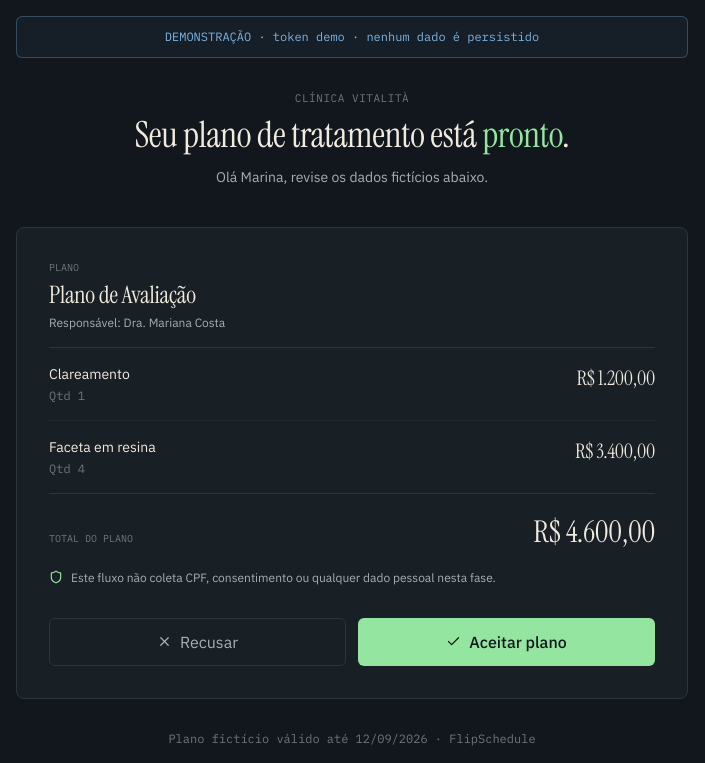
Scenario: public experience › keeps public plan acceptance entirely visual
Expected: the text "DEMONSTRAÇÃO · token demo · nenhum dado é persistido" is shown, x1=16 y1=16 x2=688 y2=58
Click the button "Aceitar plano": (506, 642) x1=358 y1=618 x2=655 y2=666
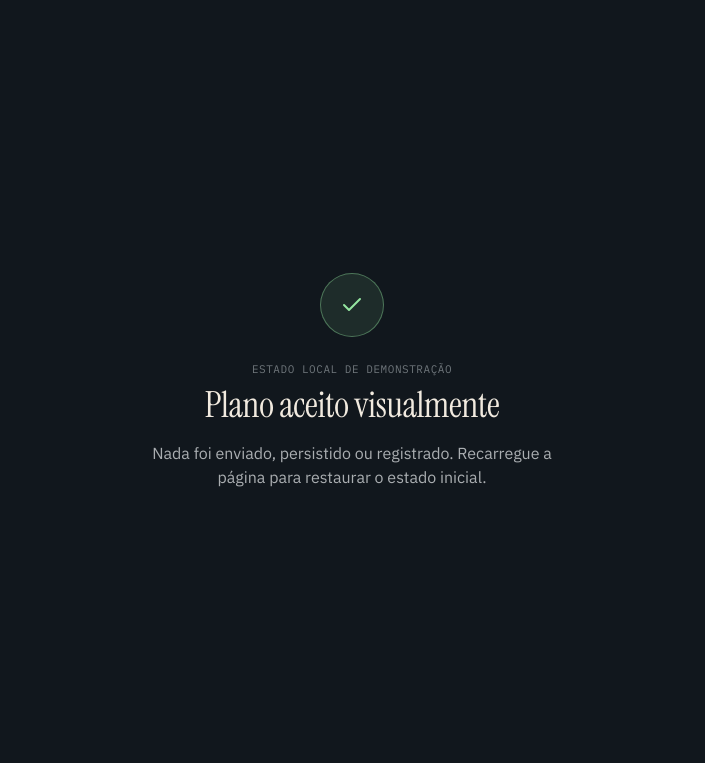
Expected: the heading "Plano aceito visualmente" is shown, x1=205 y1=381 x2=499 y2=428
Expected: the text "Nada foi enviado, persistido ou registrado" is shown, x1=152 y1=443 x2=552 y2=487
